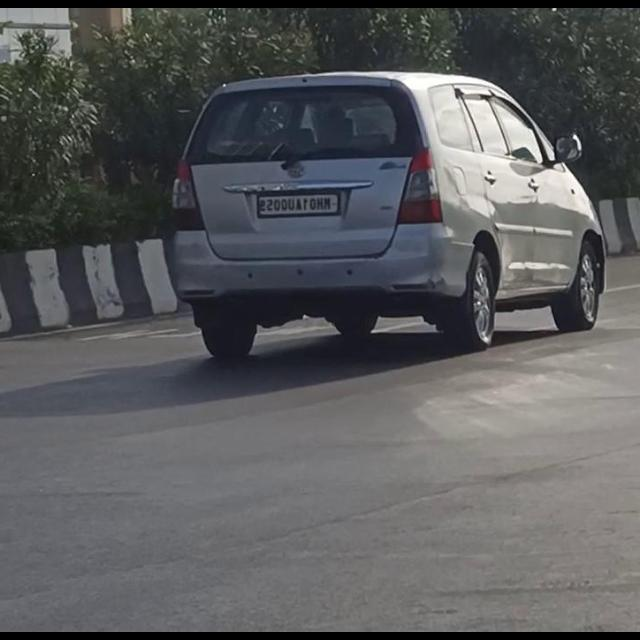number-plate: (248, 181, 343, 223)
vehicles: (169, 62, 603, 365)
